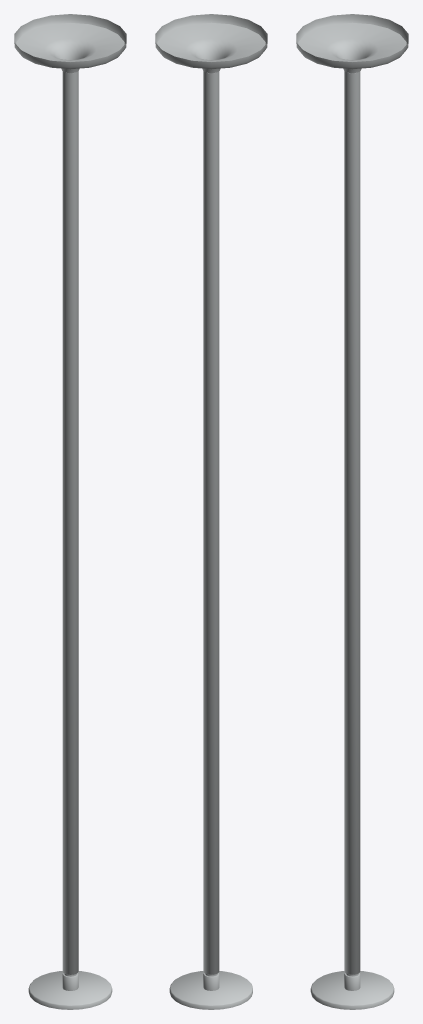
File: polo.fbx
3 renders of one model, left to right at view 1: azimuth 90°, elevation 25°; view 2: azimuth 210°, elevation 25°; view 3: azimuth 270°, elevation 25°, orthographic.
Parts seen in each view (by area): view 1: polo; view 2: polo; view 3: polo.
Part boxes in pixels (<box>): polo: <box>14,14,126,1009</box>; polo: <box>155,14,267,1009</box>; polo: <box>296,14,408,1009</box>.
Bounding box in the file's own units: 34.68 × 320 × 34.15.
1 material, 1 textured.
